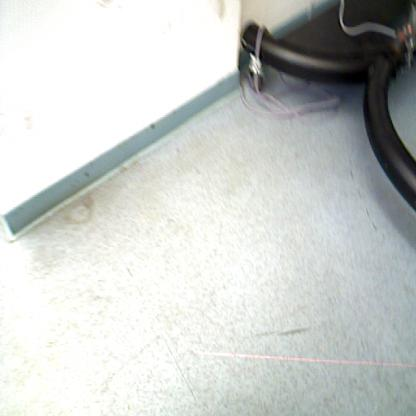mark: (59, 190, 96, 226), (254, 325, 309, 340), (370, 219, 378, 232), (356, 186, 362, 200), (363, 205, 370, 216), (349, 168, 354, 180), (348, 158, 354, 168), (381, 233, 386, 241)
